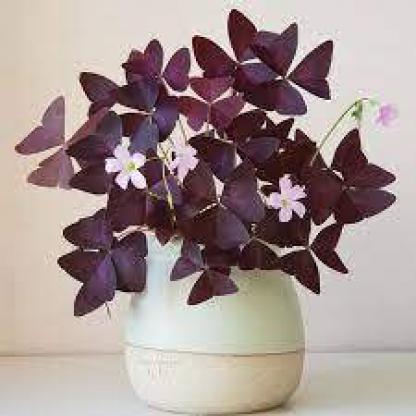Kupu-Kupu: (273, 143, 393, 286), (197, 24, 350, 107), (169, 169, 262, 299), (86, 51, 201, 141), (14, 101, 116, 191), (59, 212, 142, 308)
